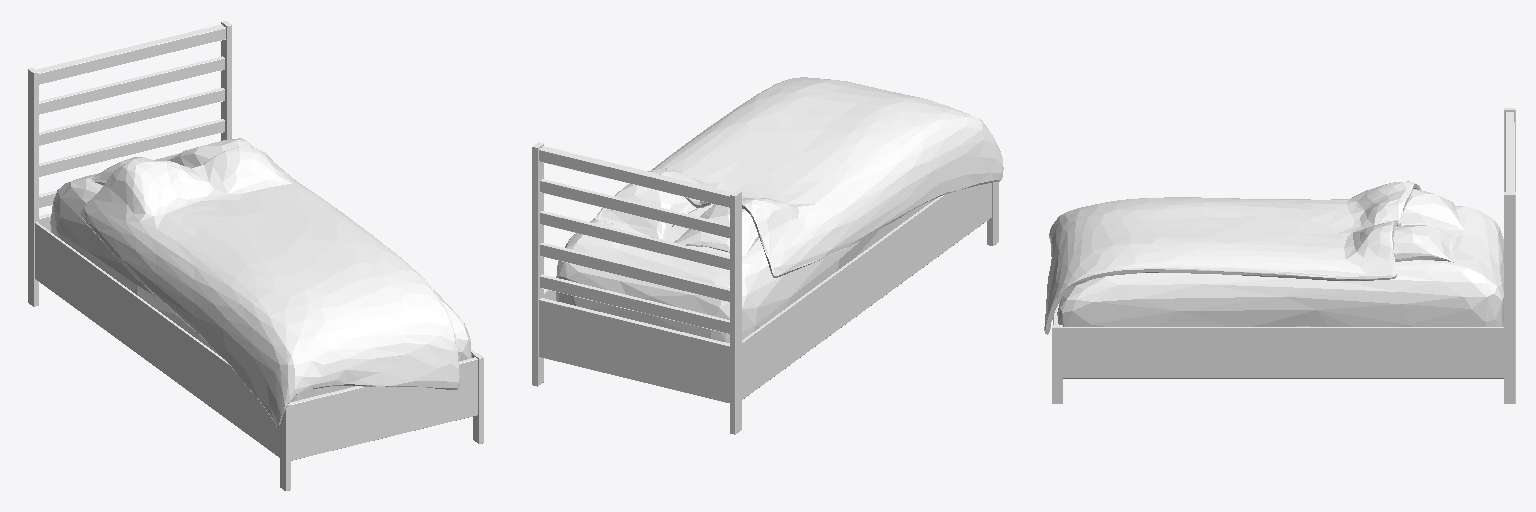
URDF robot description (bed):
<?xml version="1.0" ?>
<robot name="bed">

  <material name="white">
    <color rgba="1 1 1 1"/>
  </material>

  <link name="root">
    <inertial>
      <mass value="0"/>
      <origin rpy="0 0 0" xyz="0 0 0"/>
      <inertia ixx="0.01" ixy="0.0" ixz="0.0" iyy="0.01" iyz="0.0" izz="0.01"/>
    </inertial>
    <visual>
      <origin rpy="1.57079632679 0 0" xyz="0 0 0"/>
      <geometry>
        <mesh filename="bed_single_reduced.obj" scale="1.1 1.1 1.1"/>
      </geometry>
      <material name="white"/>
    </visual>
    <collision>
      <origin rpy="1.57079632679 0 0" xyz="0 0 0"/>
      <geometry>
        <mesh filename="bed_single_reduced_vhacd.obj" scale="1.1 1.1 1.1"/>
      </geometry>
    </collision>
  </link>
</robot>


--- What the picture shows (computed from the rendered views, not written in the file) ---
The picture shows the robot from 3 angles, left to right: view 1: azimuth 30°, elevation 25°; view 2: azimuth 150°, elevation 25°; view 3: azimuth 270°, elevation 25°; orthographic projection.
Model bed with 1 links and 0 joints (none), rooted at root, posed every joint at zero.
Visible links, largest first — view 1: root; view 2: root; view 3: root.
Boxes of the visible links, x1=… form: root: x1=28, y1=21, x2=483, y2=490; root: x1=532, y1=77, x2=1003, y2=434; root: x1=1044, y1=108, x2=1515, y2=403.
Bounding box of the posed robot: 1.06 × 2.36 × 1.16 m (x, y, z).
Meshes: 1 distinct files referenced, 1 mesh visuals loaded (1 OBJ).